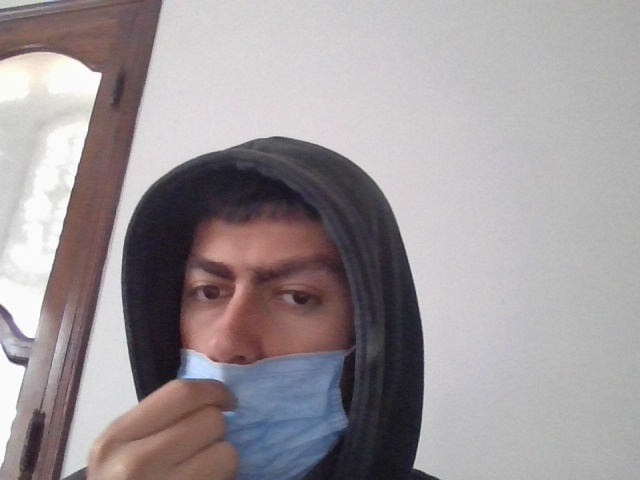mask_weared_incorrect: (160, 189, 381, 480)
